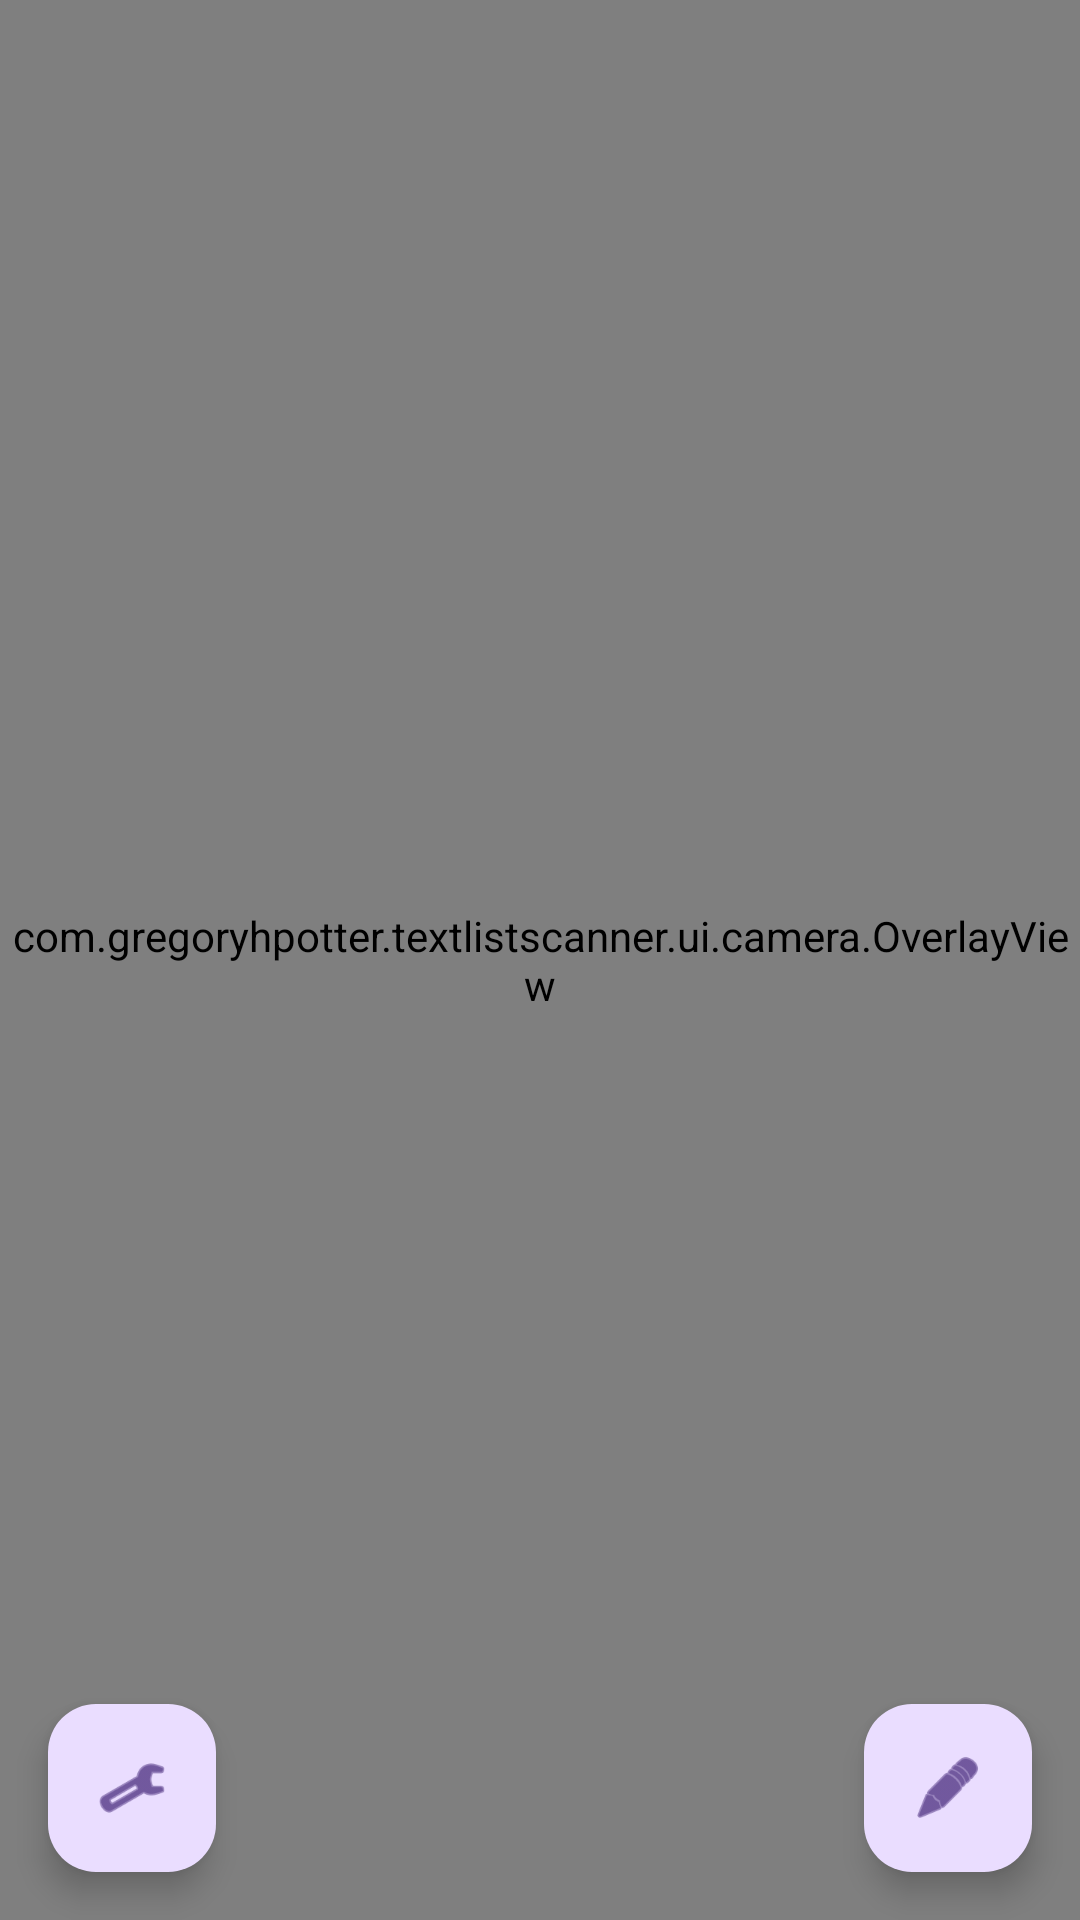

Where icons sit on this 1080 × 1920 app screen, as Rect(x1, y1, x2, y2):
Edit word list: Rect(864, 1704, 1032, 1872)
Settings: Rect(48, 1704, 216, 1872)
